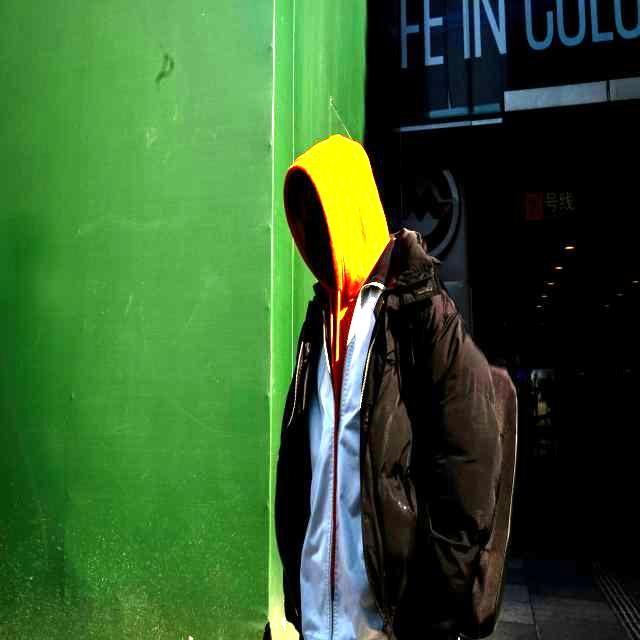no_hard_hat: (284, 135, 390, 338)
person: (275, 132, 515, 640)
